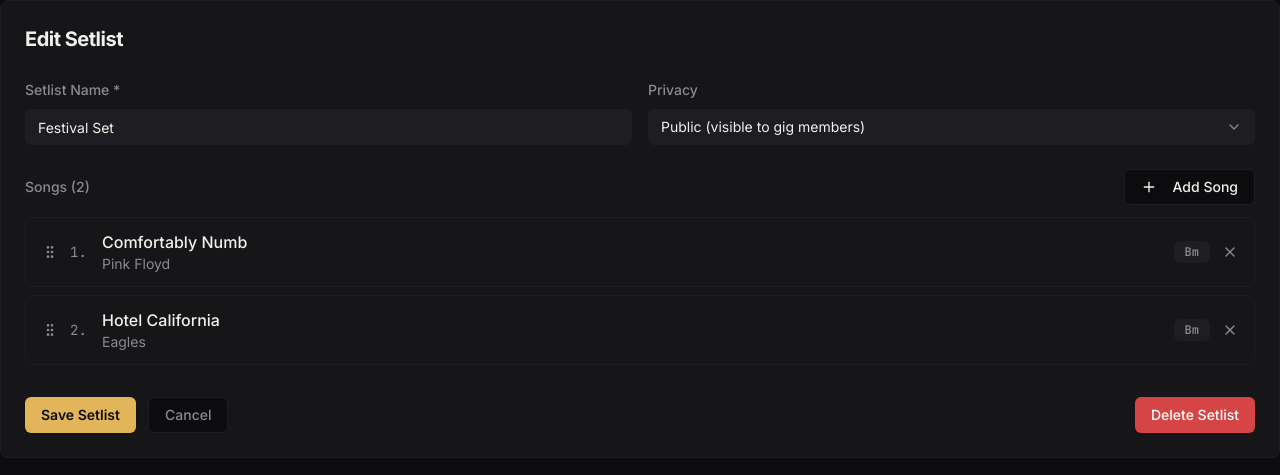
SetlistEditor › removes a song and recalculates positions
The image size is (1280, 475).
Expected: the text "Songs (2)" is shown, [25,180,90,194]
Expected: the text "Comfortably Numb" is shown, [102,232,247,252]
Note: Click remove button on first song
Click the button named "remove comfortably numb" at (1230, 252), box [1218,240,1242,264]
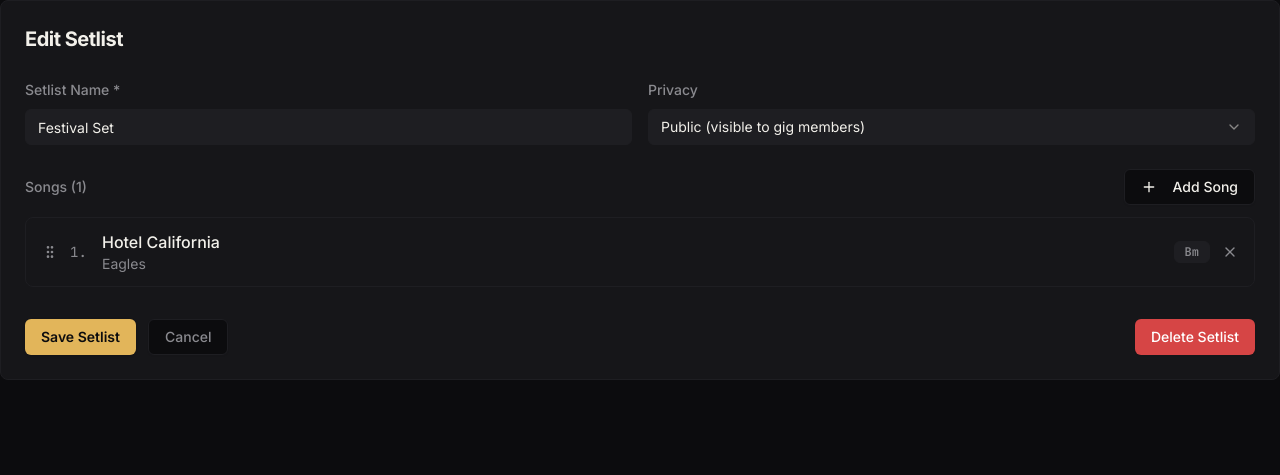
Result: the text "Songs (1)" is shown at [25,180,87,194]
Result: the text "Comfortably Numb" is gone
Result: the text "2." is gone
